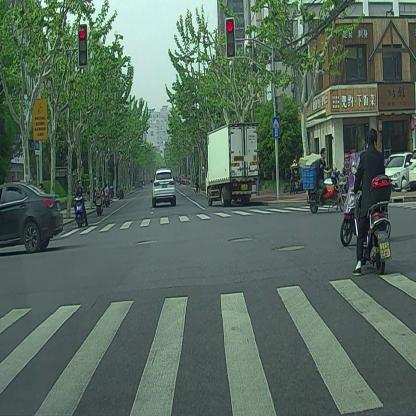Red Light: (226, 18, 236, 58), (79, 24, 88, 67)
